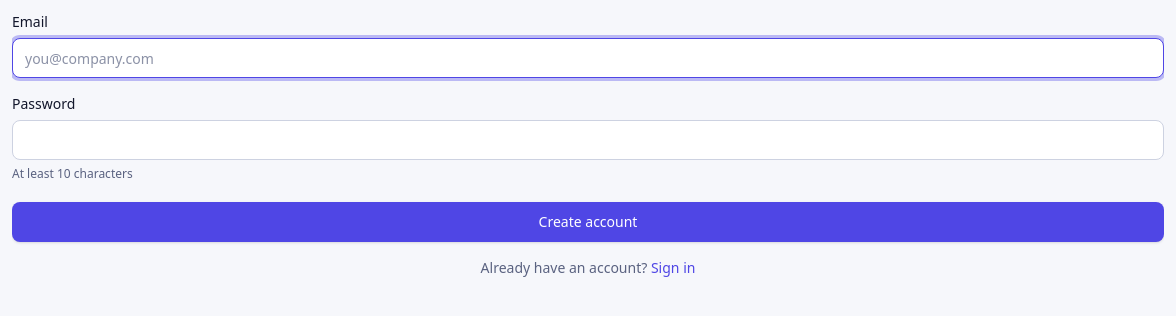
Test: sign in form › register mode enforces the 10-character rule and maps 409 to the email field
Type "me@x.co" into the field labelled "Email" at (588,58), box [12,38,1164,78]
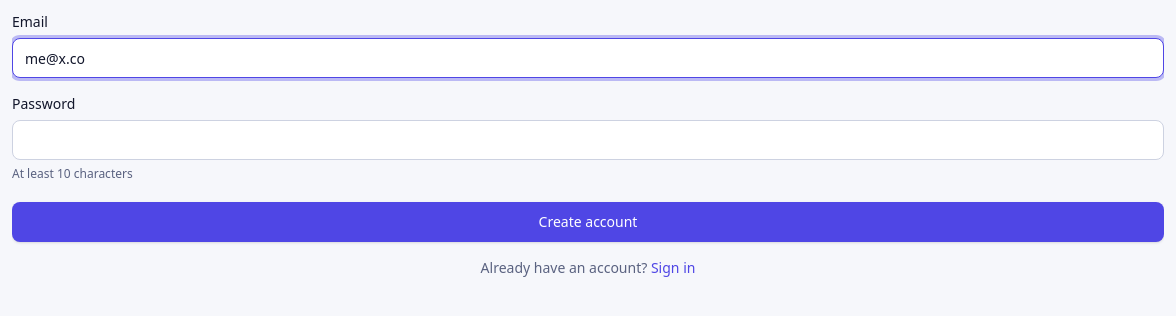
Type "short" into the password field labelled "Password" at (588,140), box [12,120,1164,160]
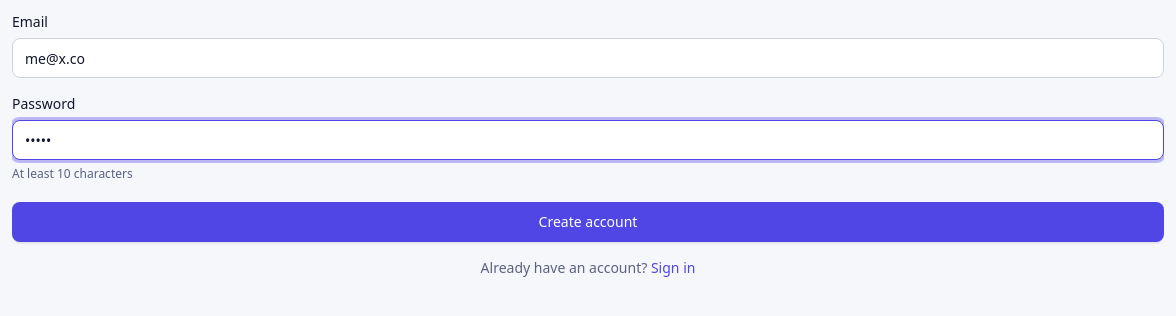
Click the button "Create account" at (588,222), box [12,202,1164,242]
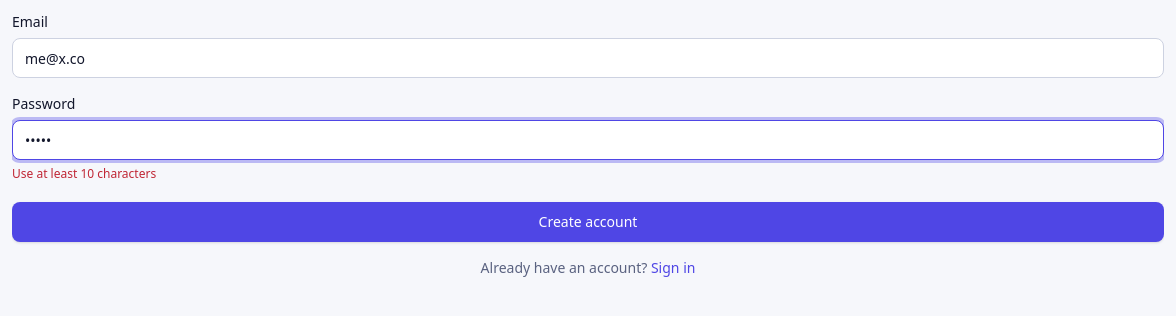
Result: the text "Use at least 10 characters" is shown at [12,165,156,182]
Type "long-enough-password" into the password field labelled "Password" at (588,140), box [12,120,1164,160]
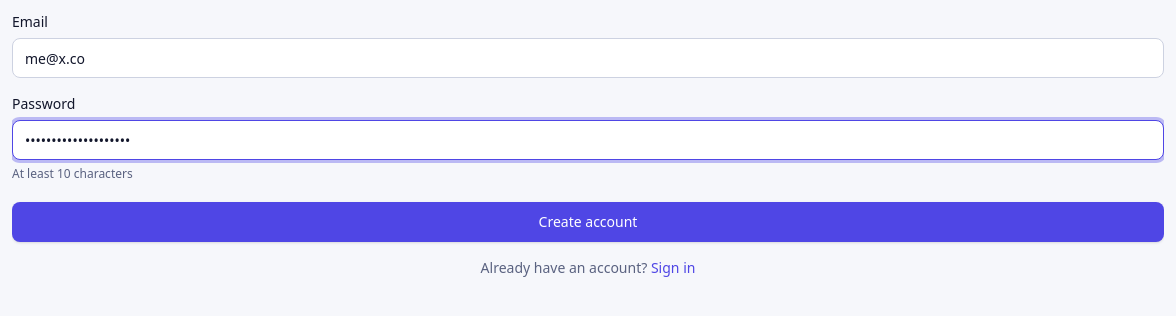
Click the button "Create account" at (588,222), box [12,202,1164,242]
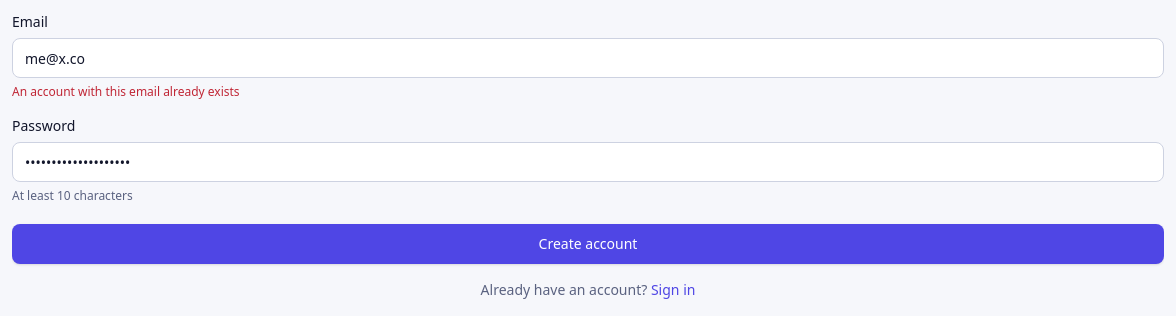
Result: the text "An account with this email already exists" is shown at [12,83,240,100]
